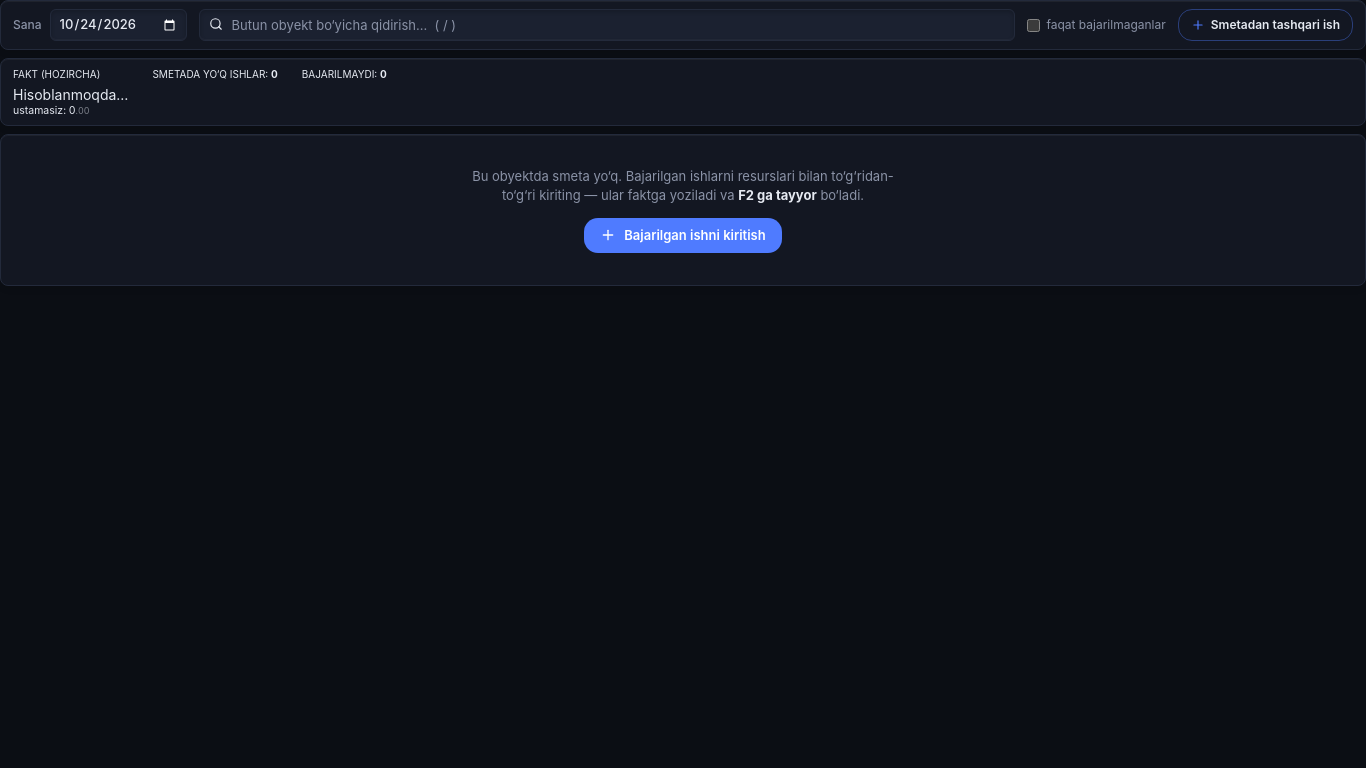
Test: FaktJurnal › smetasiz obyekt — bajarilgan ishni kiritish taklifi
Step 1. Click the button "Bajarilgan ishni kiritish" → [683, 235], box [584, 218, 782, 253]
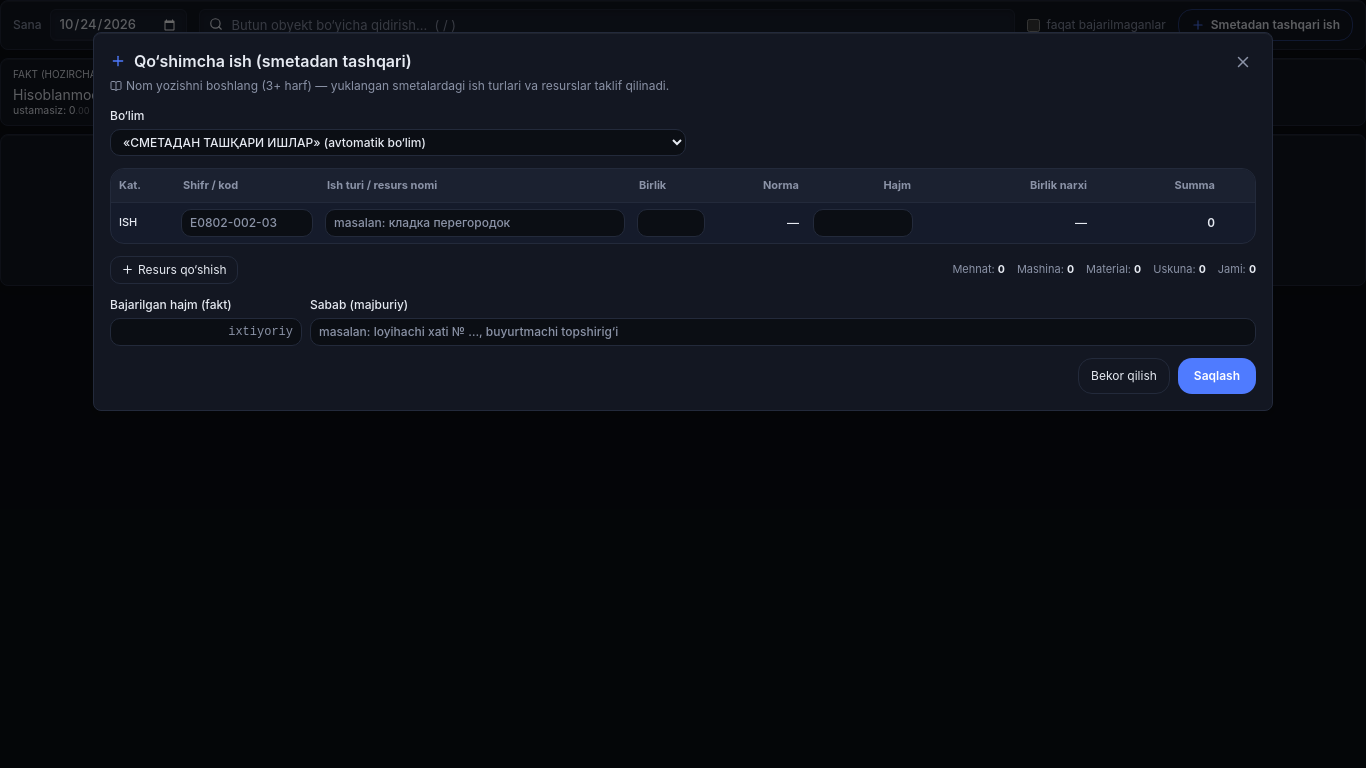
Expected: the dialog "Qo‘shimcha ish (smetadan tashqari)" is shown
